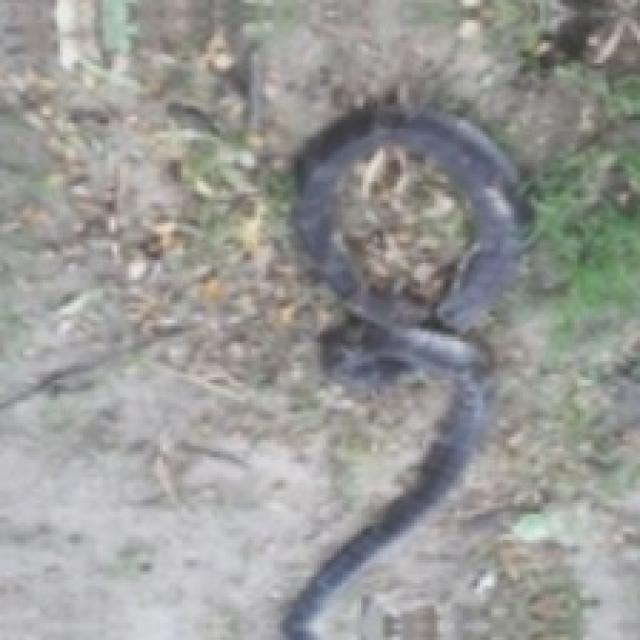king cobra: (283, 109, 523, 637)
